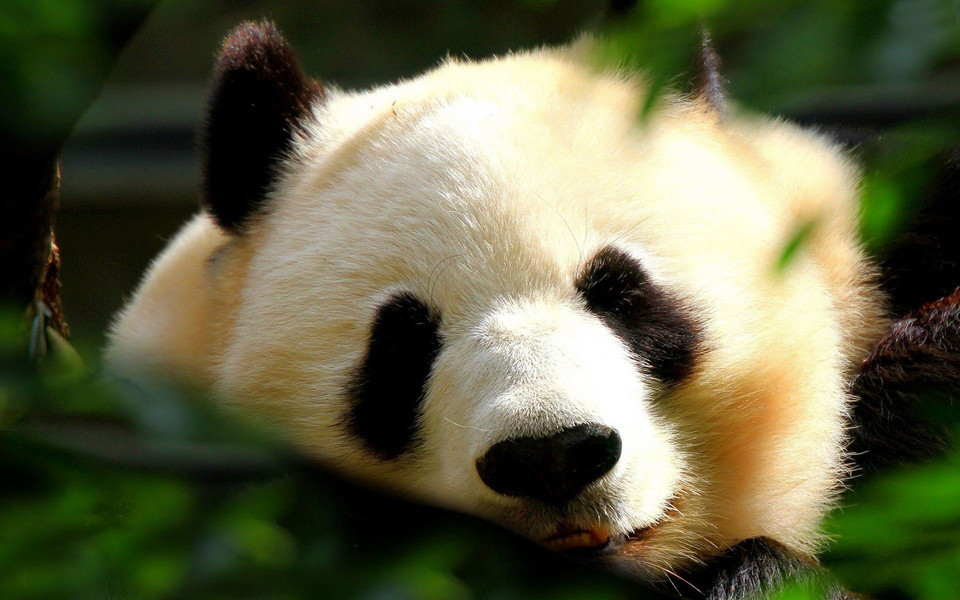panda: (102, 7, 918, 573)
